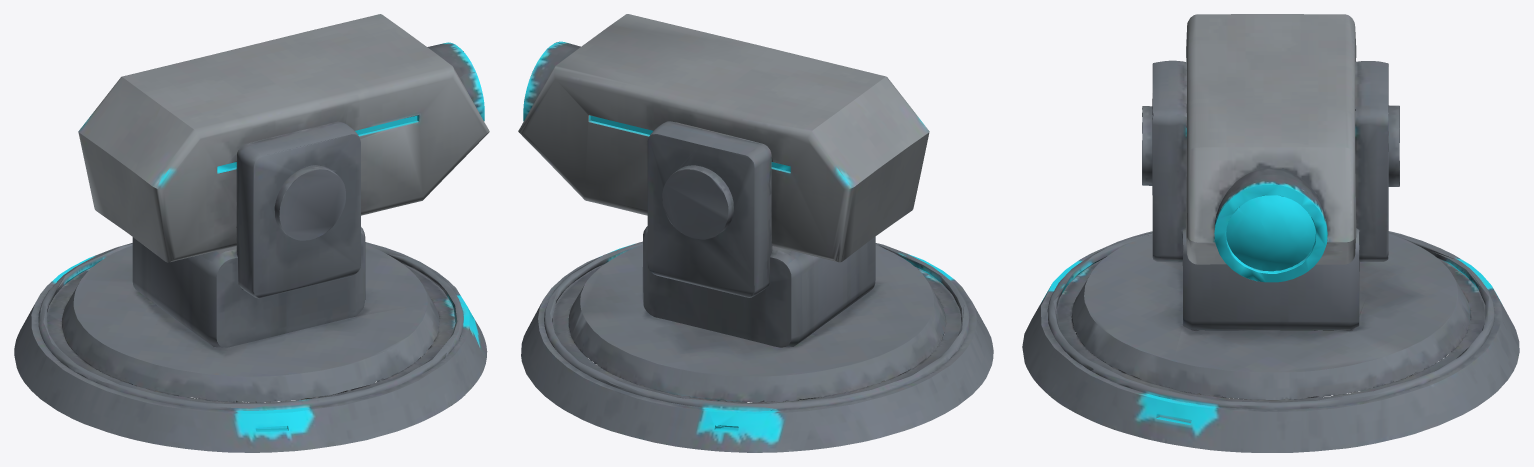
The model's file is town-laser-light.glb.
The picture shows the model from 3 angles, left to right: view 1: azimuth 30°, elevation 25°; view 2: azimuth 150°, elevation 25°; view 3: azimuth 270°, elevation 25°; orthographic projection. The views are drawn at different scales.
Parts seen in each view (by area): view 1: town-laser-light; view 2: town-laser-light; view 3: town-laser-light.
Boxes of the visible parts, left/top/right/bottom form: town-laser-light: left=14, top=14, right=489, bottom=452; town-laser-light: left=518, top=14, right=993, bottom=452; town-laser-light: left=1022, top=14, right=1519, bottom=452.
Bounding box in the file's own units: 3.26 × 2.03 × 3.2.
1 material, 1 textured.
